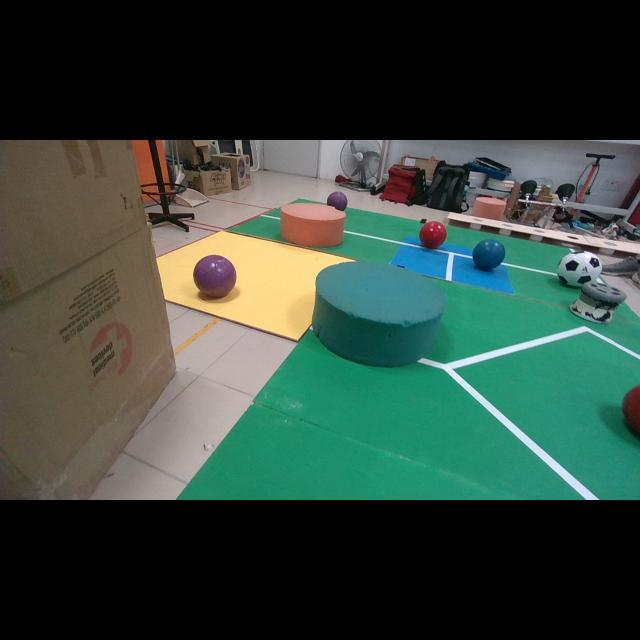B: (472, 239, 505, 271)
P: (194, 256, 236, 298), (326, 191, 348, 211)
R: (419, 221, 446, 248)
